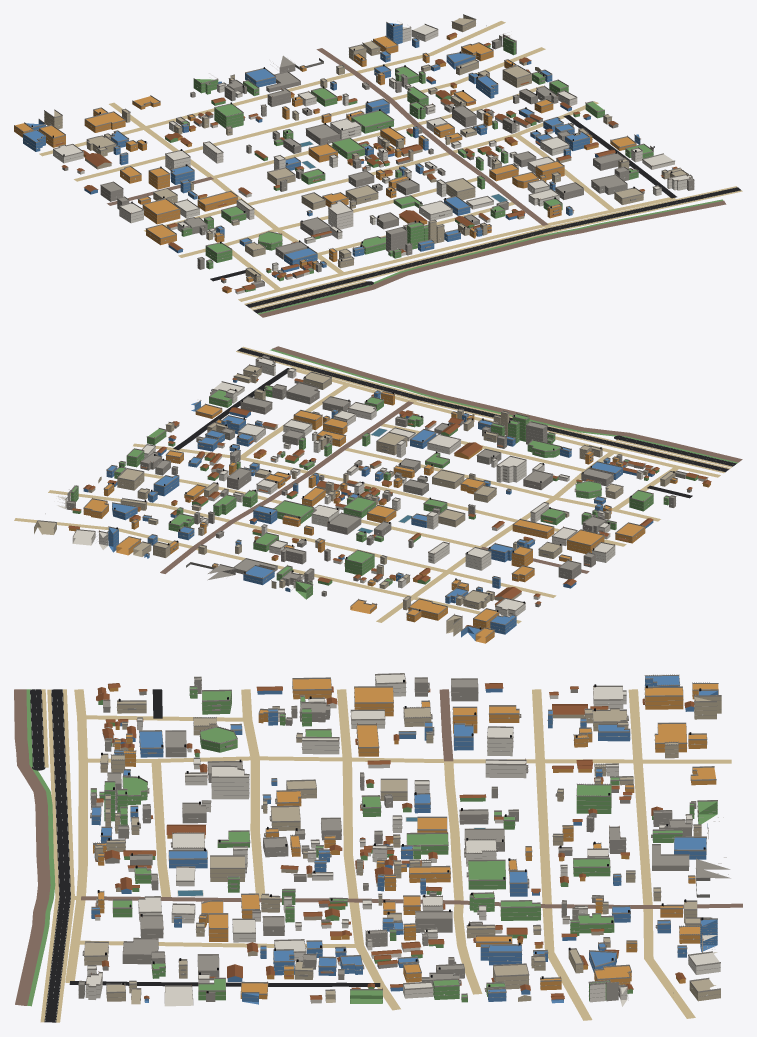
File: zone_t-7_0.glb
3 renders of one model, top to bottom at view 1: azimuth 30°, elevation 25°; view 2: azimuth 150°, elevation 25°; view 3: azimuth 270°, elevation 25°, orthographic. The views are drawn at different scales.
Visible parts, largest first — view 1: parapet_t-7_0, bld_peinture_ocre_t-7_0-col, route_residential_terre_t-7_0, bld_peinture_blanc_t-7_0-col, bld_beton_t-7_0-col, bld_peinture_vert_t-7_0-col, bld_peinture_ecaillee_t-7_0-col, bld_peinture_bleu_t-7_0-col, toit_tole_t-7_0, bandeau_t-7_0, route_secondary_bitume_t-7_0, promenade_t-7_0 (+4 smaller); view 2: parapet_t-7_0, bld_peinture_ocre_t-7_0-col, route_residential_terre_t-7_0, bld_beton_t-7_0-col, bld_peinture_vert_t-7_0-col, bld_peinture_blanc_t-7_0-col, bld_peinture_ecaillee_t-7_0-col, bld_peinture_bleu_t-7_0-col, toit_tole_t-7_0, bandeau_t-7_0, route_secondary_bitume_t-7_0, promenade_t-7_0 (+4 smaller); view 3: parapet_t-7_0, route_residential_terre_t-7_0, bld_peinture_ocre_t-7_0-col, bld_peinture_blanc_t-7_0-col, bld_peinture_vert_t-7_0-col, bld_beton_t-7_0-col, bld_peinture_ecaillee_t-7_0-col, bld_peinture_bleu_t-7_0-col, toit_tole_t-7_0, bandeau_t-7_0, route_secondary_bitume_t-7_0, promenade_t-7_0 (+6 smaller).
Part boxes in pixels (x1,y1,x2,y2): parapet_t-7_0: (14,14,694,285); bld_peinture_ocre_t-7_0-col: (14,35,636,293); route_residential_terre_t-7_0: (39,21,675,301); bld_peinture_blanc_t-7_0-col: (53,24,692,294); bld_beton_t-7_0-col: (62,35,694,287); bld_peinture_vert_t-7_0-col: (165,37,653,292); bld_peinture_ecaillee_t-7_0-col: (44,15,687,281); bld_peinture_bleu_t-7_0-col: (23,23,672,277); toit_tole_t-7_0: (61,32,677,291); bandeau_t-7_0: (15,23,694,280); route_secondary_bitume_t-7_0: (245,187,740,313); promenade_t-7_0: (258,200,726,317); parapet_t-7_0: (34,355,687,637); bld_peinture_ocre_t-7_0-col: (69,392,710,643); route_residential_terre_t-7_0: (14,367,720,623); bld_beton_t-7_0-col: (66,356,691,607); bld_peinture_vert_t-7_0-col: (71,386,698,599); bld_peinture_blanc_t-7_0-col: (56,358,707,616); bld_peinture_ecaillee_t-7_0-col: (34,365,675,636); bld_peinture_bleu_t-7_0-col: (83,379,654,640); toit_tole_t-7_0: (68,378,711,626); bandeau_t-7_0: (54,363,675,639); route_secondary_bitume_t-7_0: (237,347,736,472); promenade_t-7_0: (272,346,742,462); parapet_t-7_0: (78,673,726,1001); route_residential_terre_t-7_0: (65,689,731,1020); bld_peinture_ocre_t-7_0-col: (93,679,718,999); bld_peinture_blanc_t-7_0-col: (85,674,720,1006); bld_peinture_vert_t-7_0-col: (90,687,717,1003); bld_beton_t-7_0-col: (78,678,730,1003); bld_peinture_ecaillee_t-7_0-col: (84,696,721,1004); bld_peinture_bleu_t-7_0-col: (91,676,718,1004); toit_tole_t-7_0: (94,683,694,999); bandeau_t-7_0: (78,679,728,1000); route_secondary_bitume_t-7_0: (30,689,70,1022); promenade_t-7_0: (14,689,50,1005).
Size of the model in its own units: 506 by 23 by 464.
